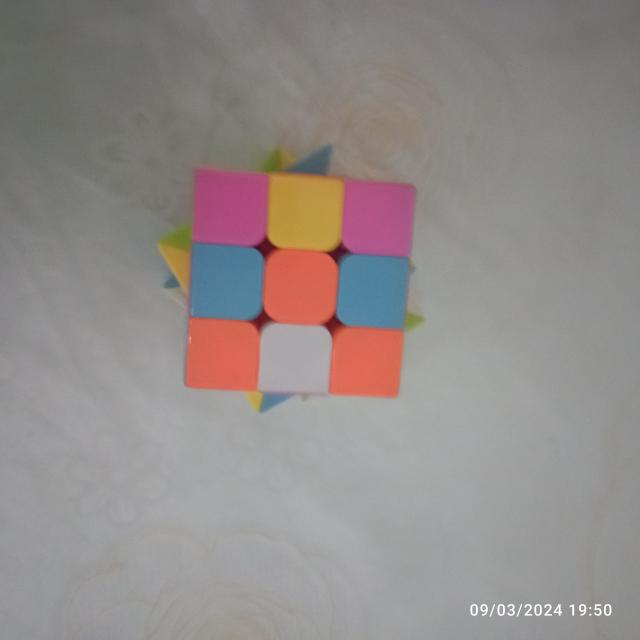Rub: (154, 140, 428, 420)
